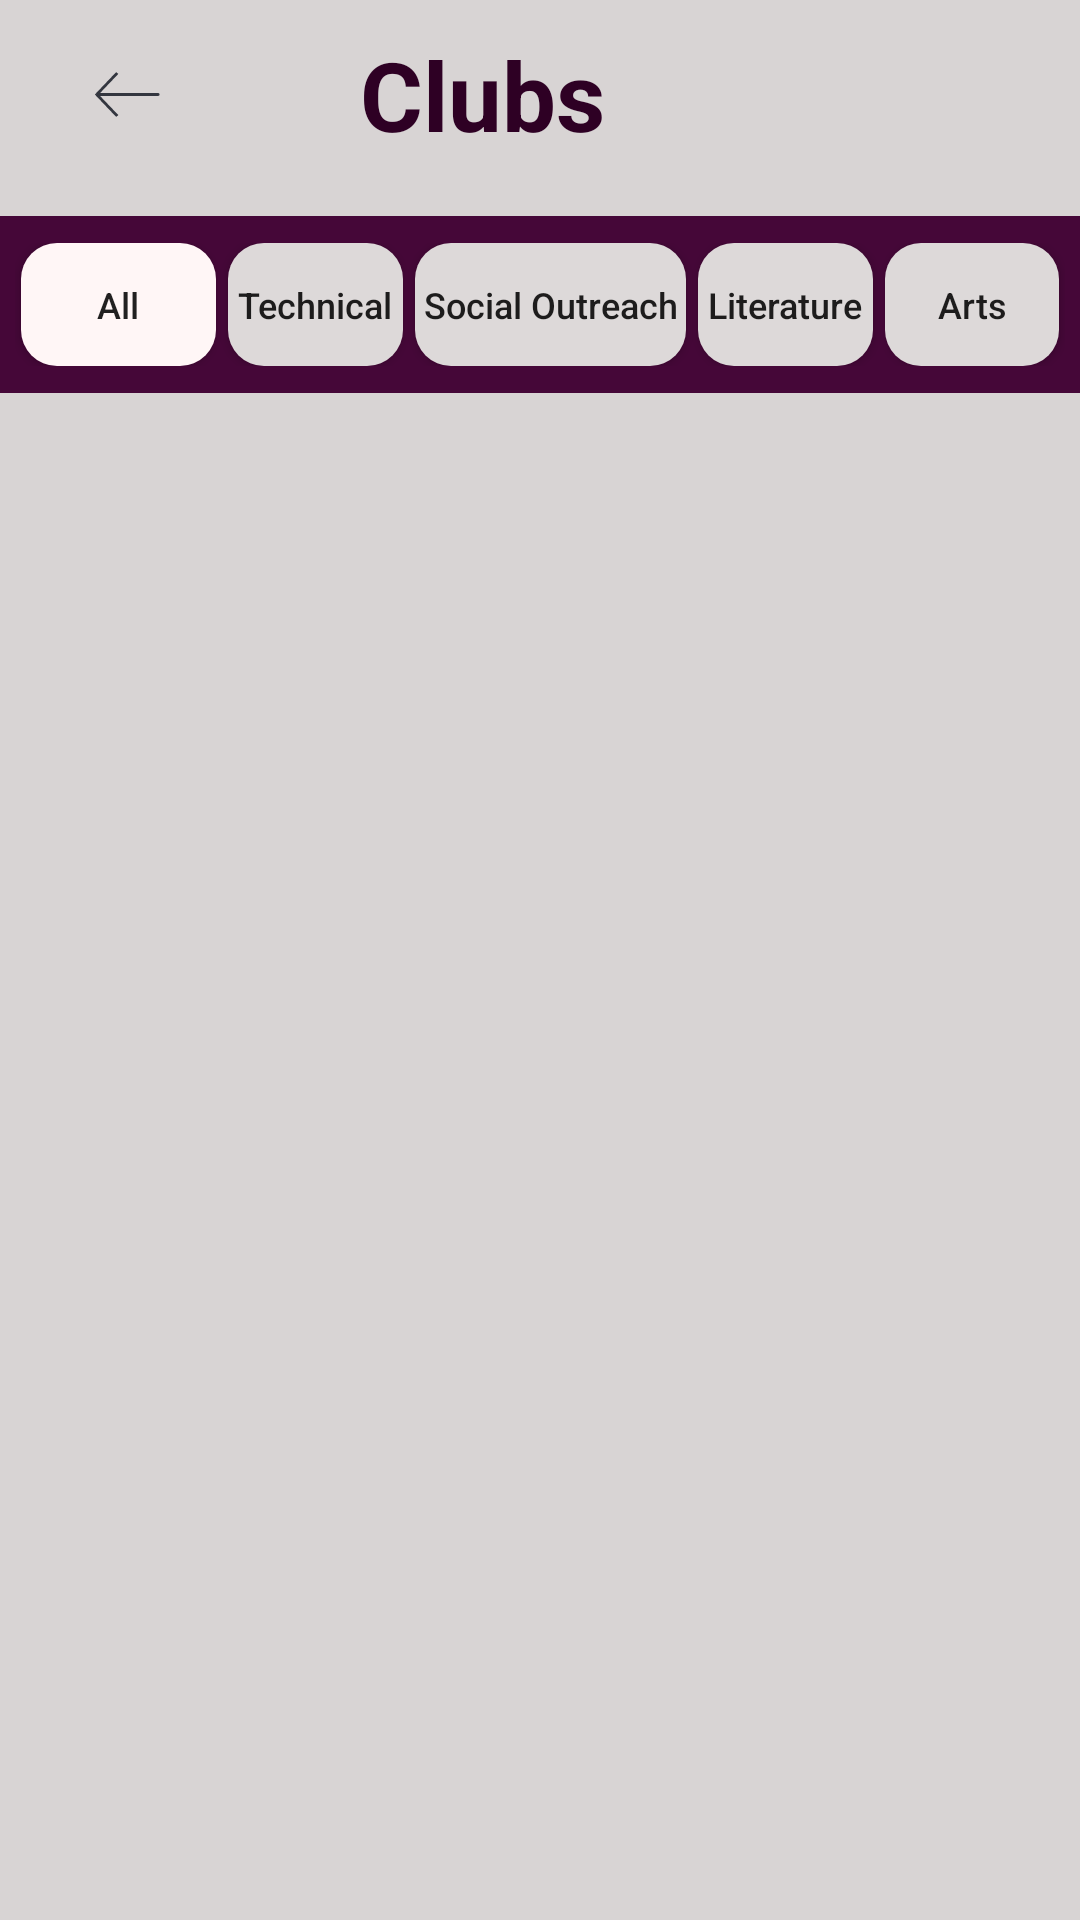

Screen size 1080x1920. Icon name, then its center in pixels as point (x, y):
leftarrow: point (127, 94)
